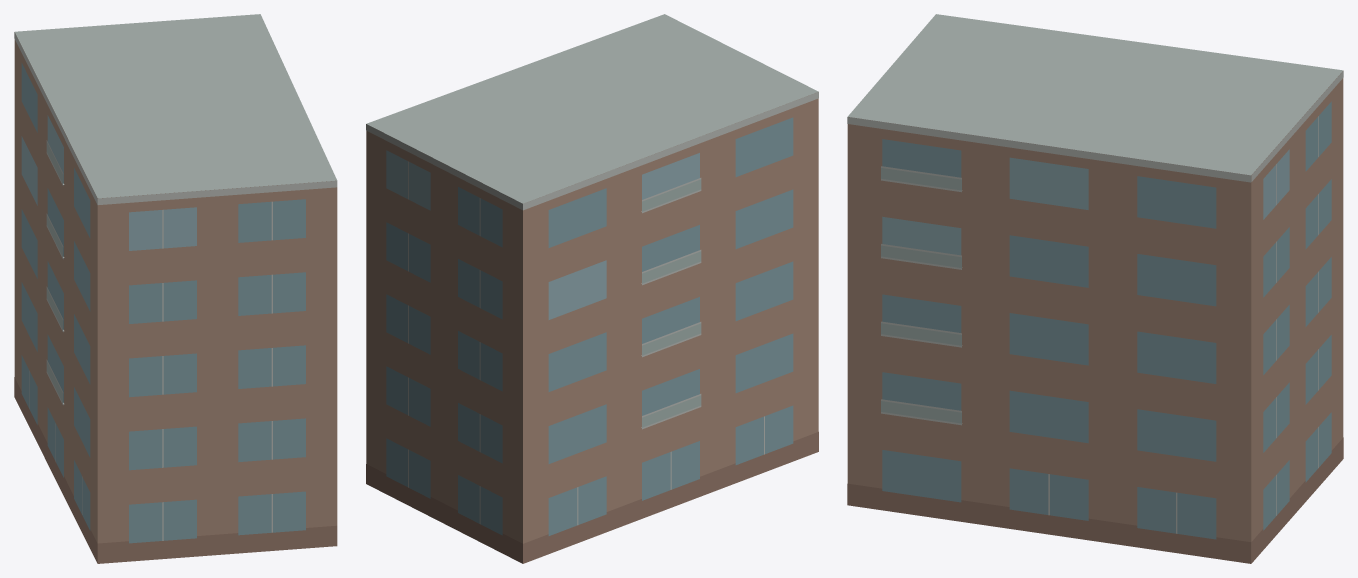
File: survey-upis-32849543.glb
3 renders of one model, left to right at view 1: azimuth 30°, elevation 25°; view 2: azimuth 150°, elevation 25°; view 3: azimuth 270°, elevation 25°, orthographic. The views are drawn at different scales.
Parts seen in each view (by area): view 1: survey-upis-32849543.tmp; view 2: survey-upis-32849543.tmp; view 3: survey-upis-32849543.tmp.
Part boxes in pixels (<box>): survey-upis-32849543.tmp: <box>14,14,337,563</box>; survey-upis-32849543.tmp: <box>366,14,818,563</box>; survey-upis-32849543.tmp: <box>847,14,1343,563</box>.
Bounding box in the file's own units: 11.77 × 13.2 × 15.29.
